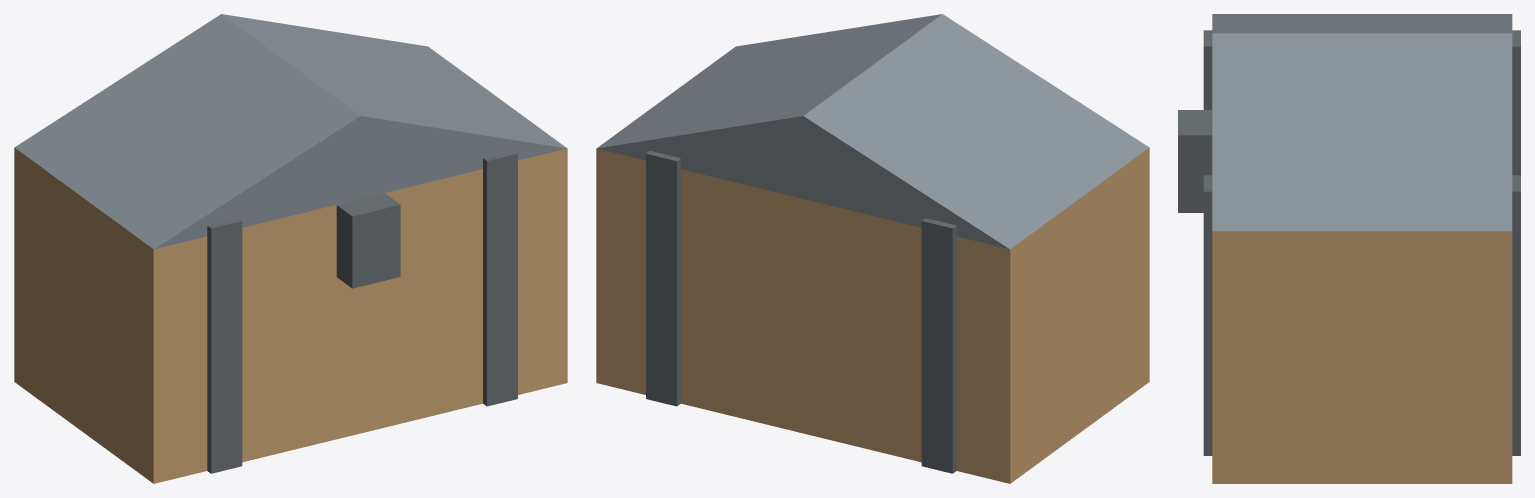
The model's file is supply-chest.glb.
The picture shows the model from 3 angles, left to right: view 1: azimuth 30°, elevation 25°; view 2: azimuth 150°, elevation 25°; view 3: azimuth 270°, elevation 25°; orthographic projection. The views are drawn at different scales.
Visible parts, largest first — view 1: supply-chest; view 2: supply-chest; view 3: supply-chest.
Boxes of the visible parts, <box> form: supply-chest: <box>14,14,567,483</box>; supply-chest: <box>596,14,1149,483</box>; supply-chest: <box>1178,14,1520,483</box>.
Bounding box in the file's own units: 1.2 × 0.88 × 0.8.
